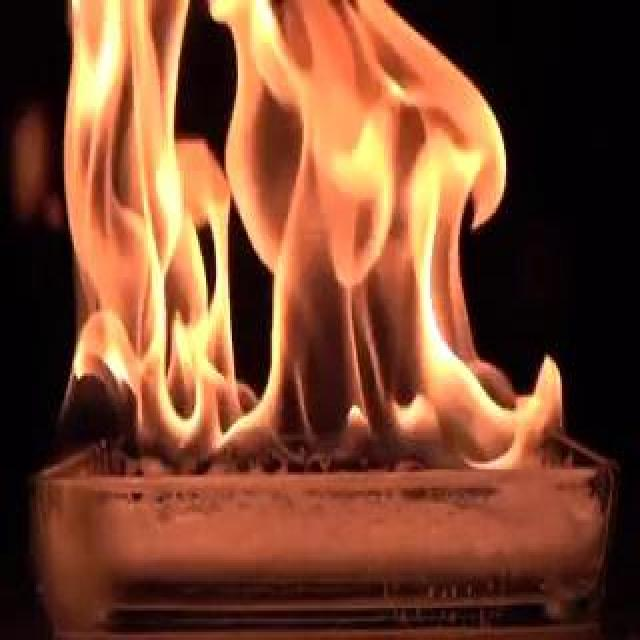Fire: (38, 2, 574, 482)
